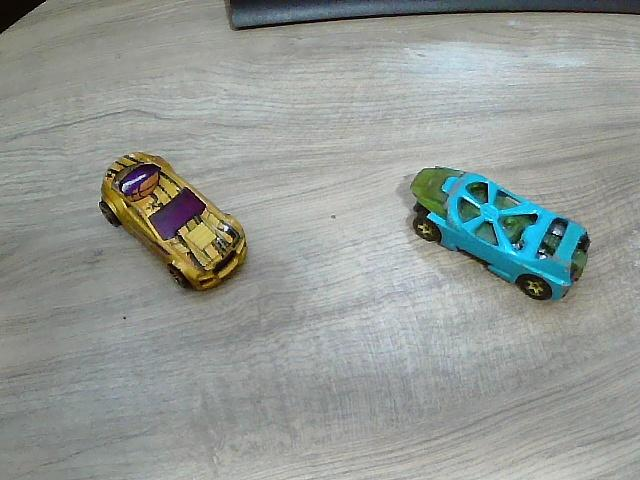Carro: (409, 168, 591, 304), (101, 152, 247, 291)
